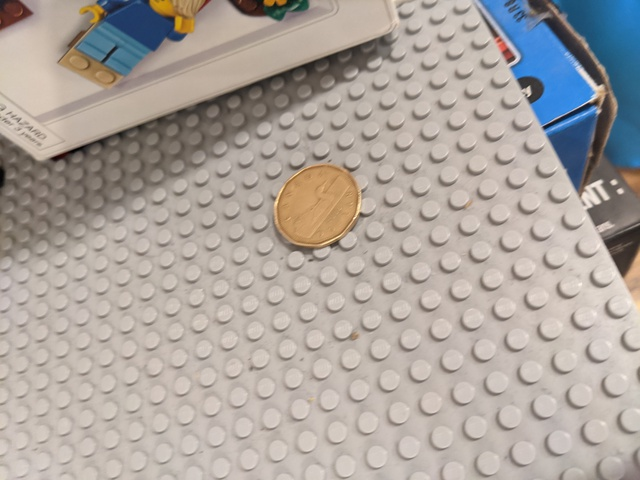loonie: (261, 150, 376, 259)
